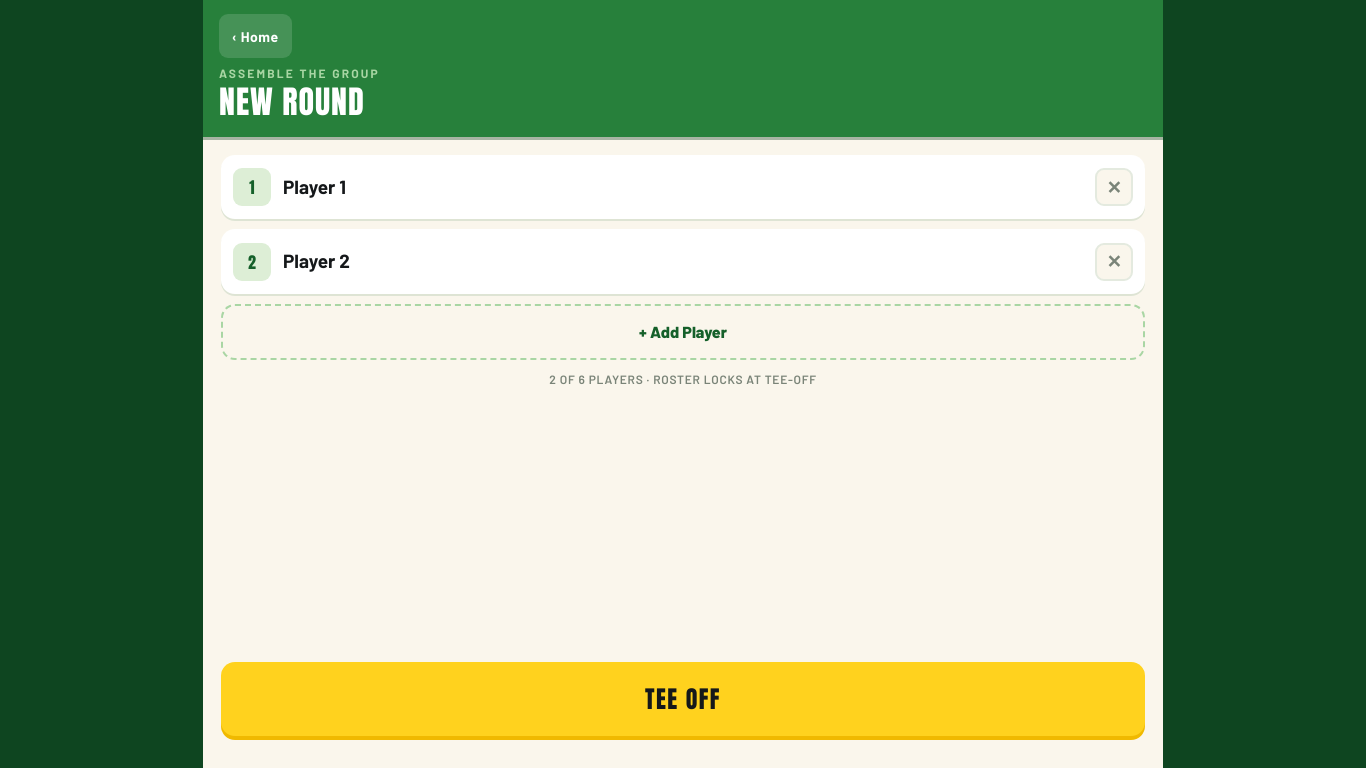
Test: NewRound › blocks the tee-off and does not create a Round when a name is empty
Clear the field named "Player 1 name" at (683, 187), box [281,165,1085,209]
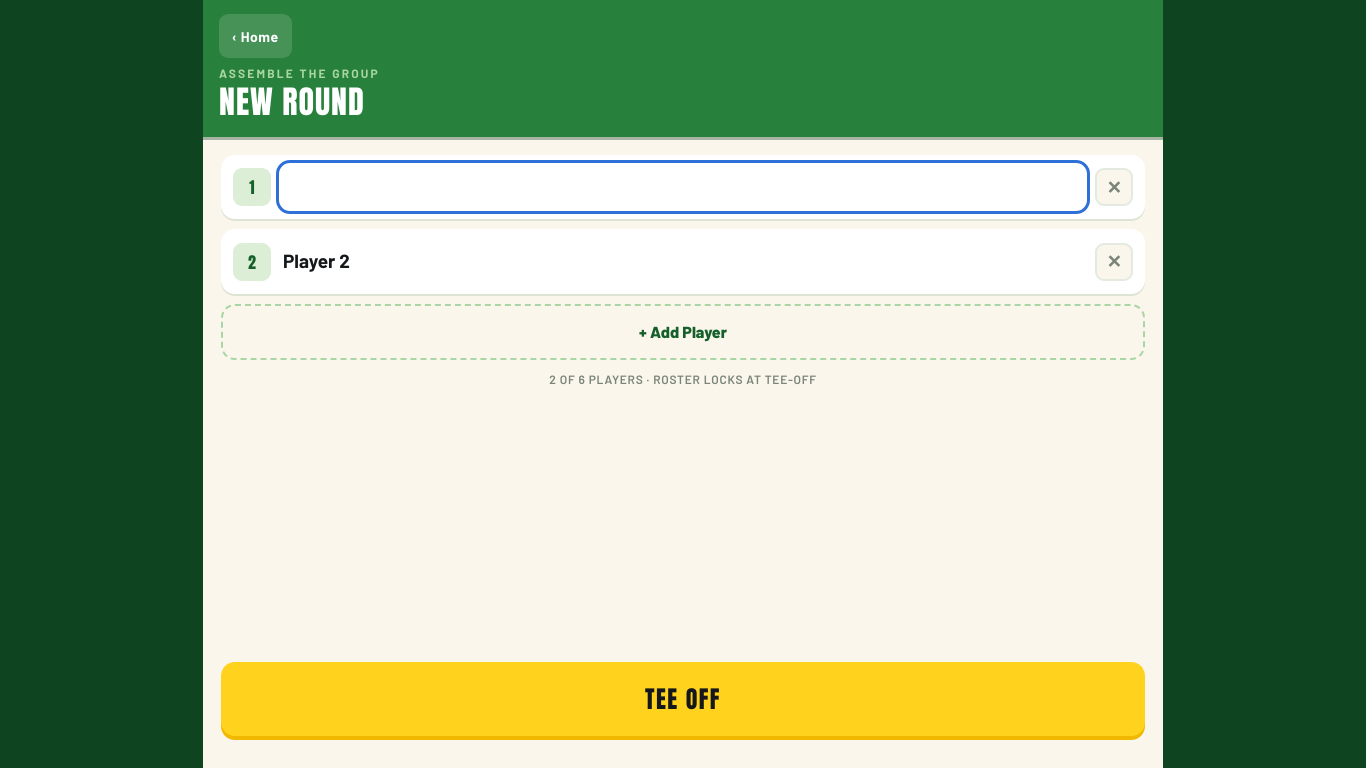
Click the button "Tee Off".
click(683, 699)  # box [221,662,1145,736]
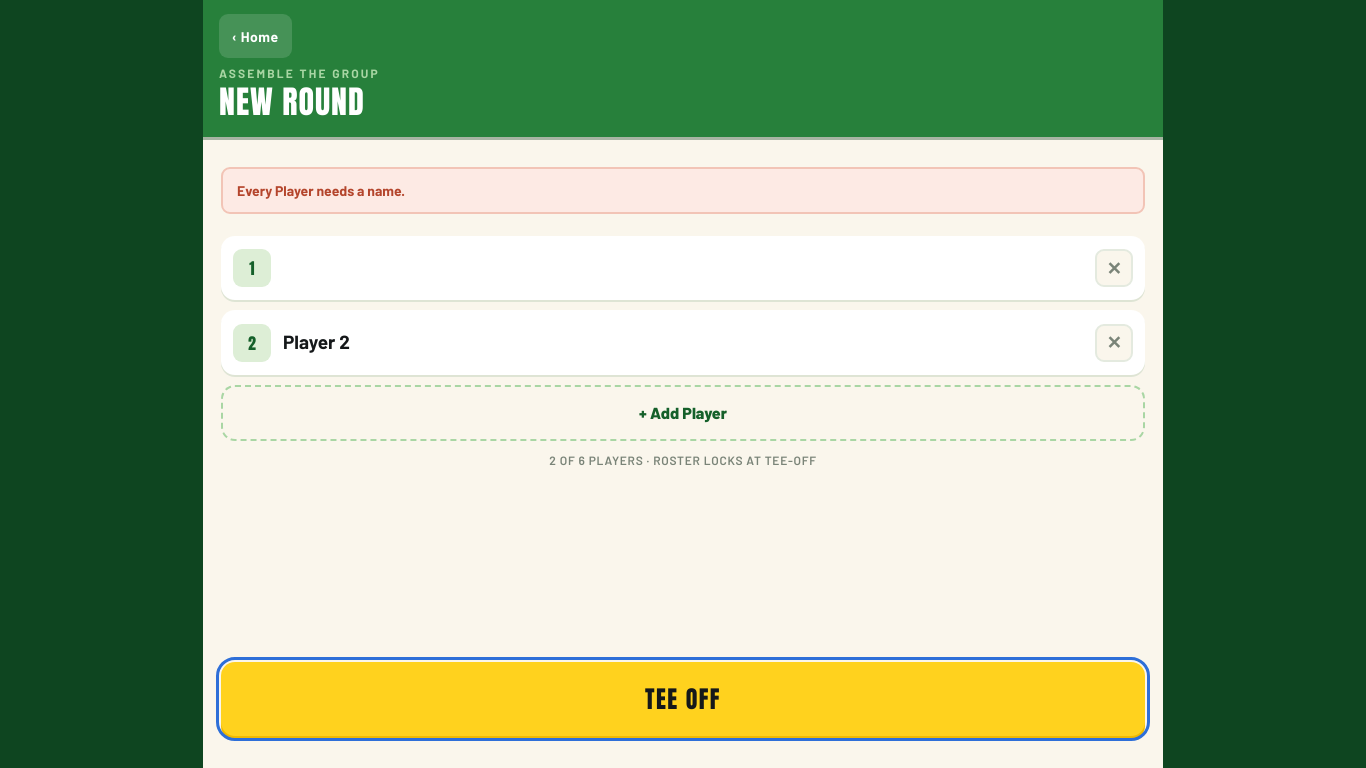
Expected: the message "Every Player needs a name." is shown, [221,167,1145,214]
